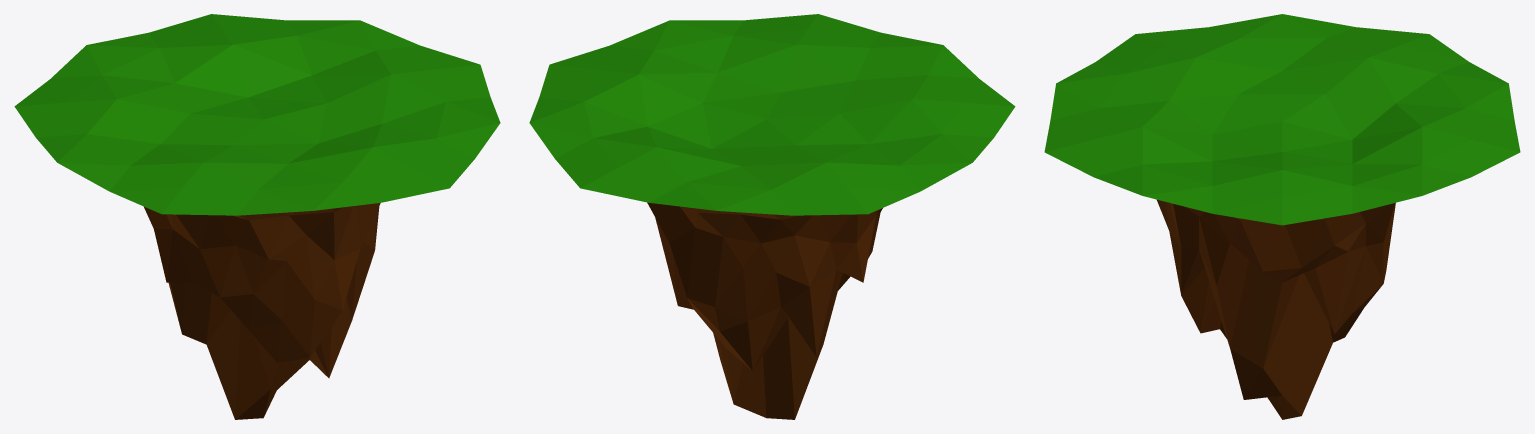
The model's file is Plattform.fbx.
3 renders of one model, left to right at view 1: azimuth 30°, elevation 25°; view 2: azimuth 150°, elevation 25°; view 3: azimuth 270°, elevation 25°, orthographic.
Visible parts, largest first — view 1: Icosphere.007; view 2: Icosphere.007; view 3: Icosphere.007.
Part boxes in pixels (x1,y1,x2,y2): Icosphere.007: (14,14,500,419); Icosphere.007: (529,14,1015,419); Icosphere.007: (1044,14,1520,419).
Size of the model in its own units: 2186 by 1542 by 2131.
